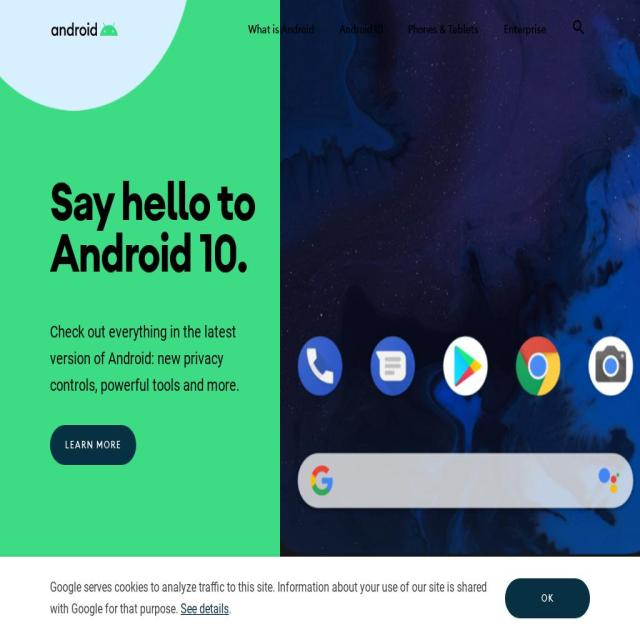button: (408, 0, 478, 58), (248, 0, 314, 58), (50, 425, 136, 465), (505, 578, 590, 618), (339, 0, 383, 58), (503, 0, 546, 58)
heading: (50, 175, 268, 278)
image: (0, 0, 192, 111)
link: (180, 601, 228, 617)
text: (50, 318, 268, 398), (50, 579, 487, 617), (408, 19, 479, 39), (248, 19, 314, 39), (339, 19, 383, 39), (504, 19, 546, 39), (229, 601, 231, 617)
